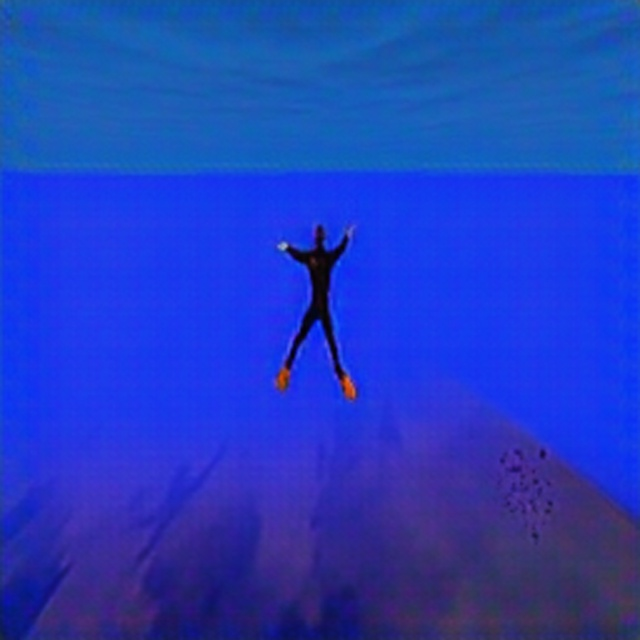diver: (273, 219, 360, 402)
